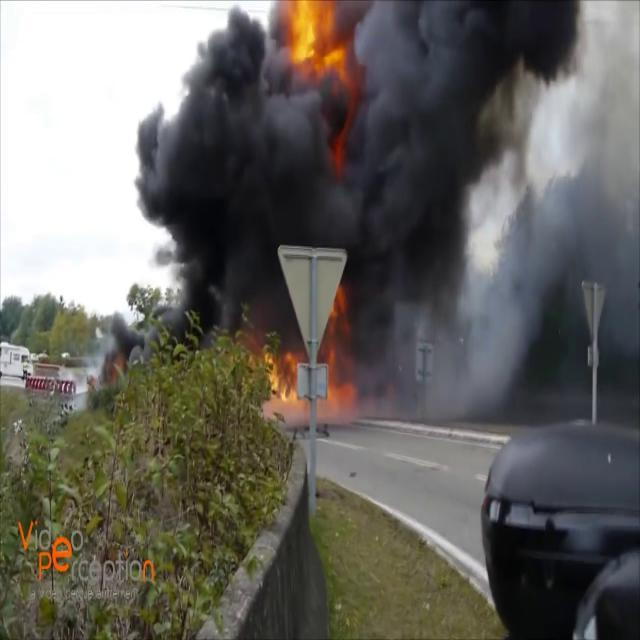Fire: (280, 1, 346, 77), (322, 288, 356, 410), (254, 342, 306, 412)
Smoke: (126, 0, 640, 352)
